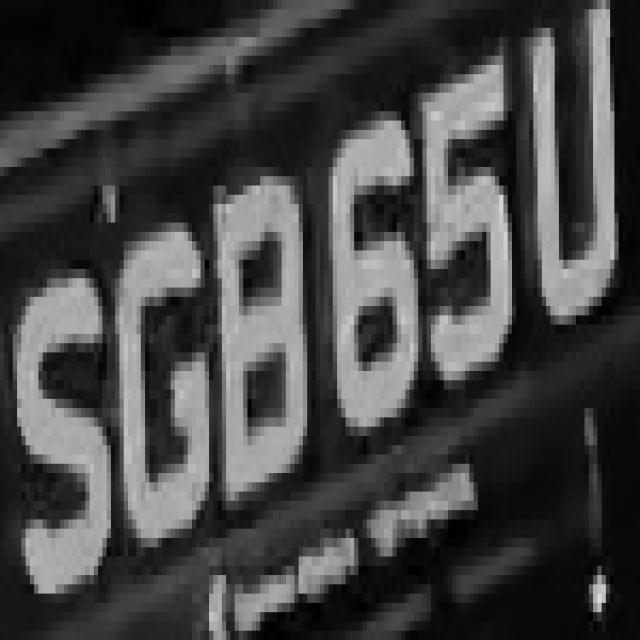5: (406, 37, 520, 408)
6: (312, 102, 418, 464)
B: (209, 149, 312, 510)
G: (98, 195, 222, 556)
S: (4, 251, 111, 612)
U: (524, 0, 631, 352)
